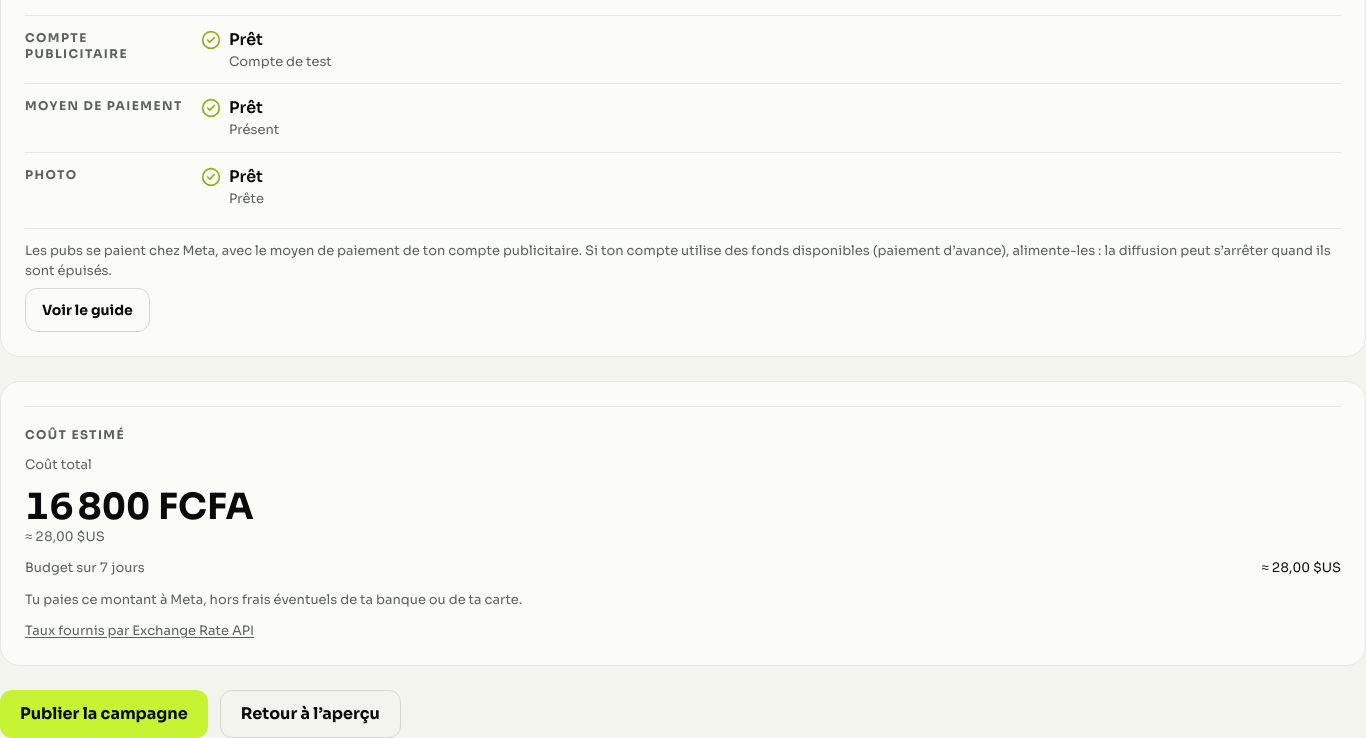
Étape Publier — chaque erreur (APPFLOW §8.6) › INTERRUPTEUR : publication réelle non activée : message sobre, brouillon, quota non décompté, AUCUN bouton de nouvel essai
This screenshot has width=1366, height=738.
(page scrolled)
Click the button "Publier la campagne": (104,714) [0,690,208,737]
(page scrolled)
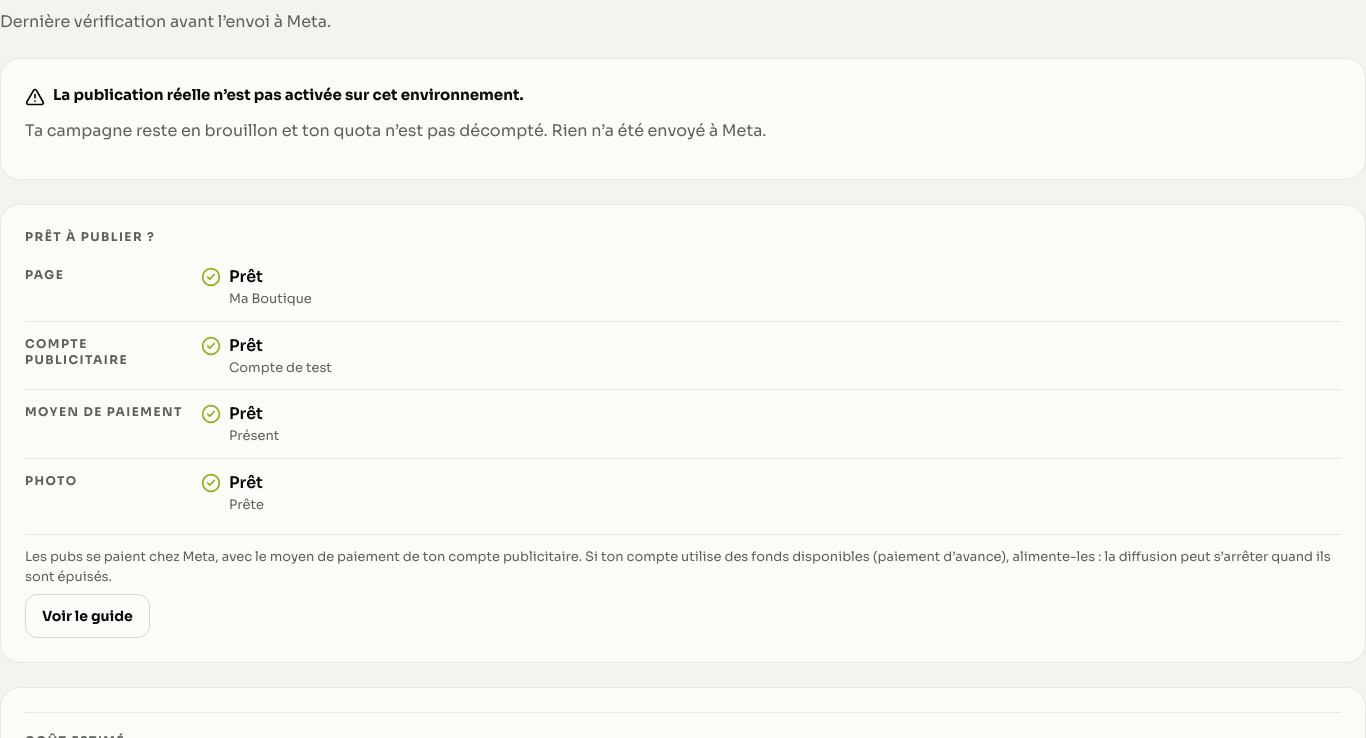
Expected: the heading "La publication réelle n’est pas activée sur cet environnement." is shown, [25,85,524,107]
Expected: the text "reste en brouillon et ton quota n’est pas décompté" is shown, [25,120,767,141]
